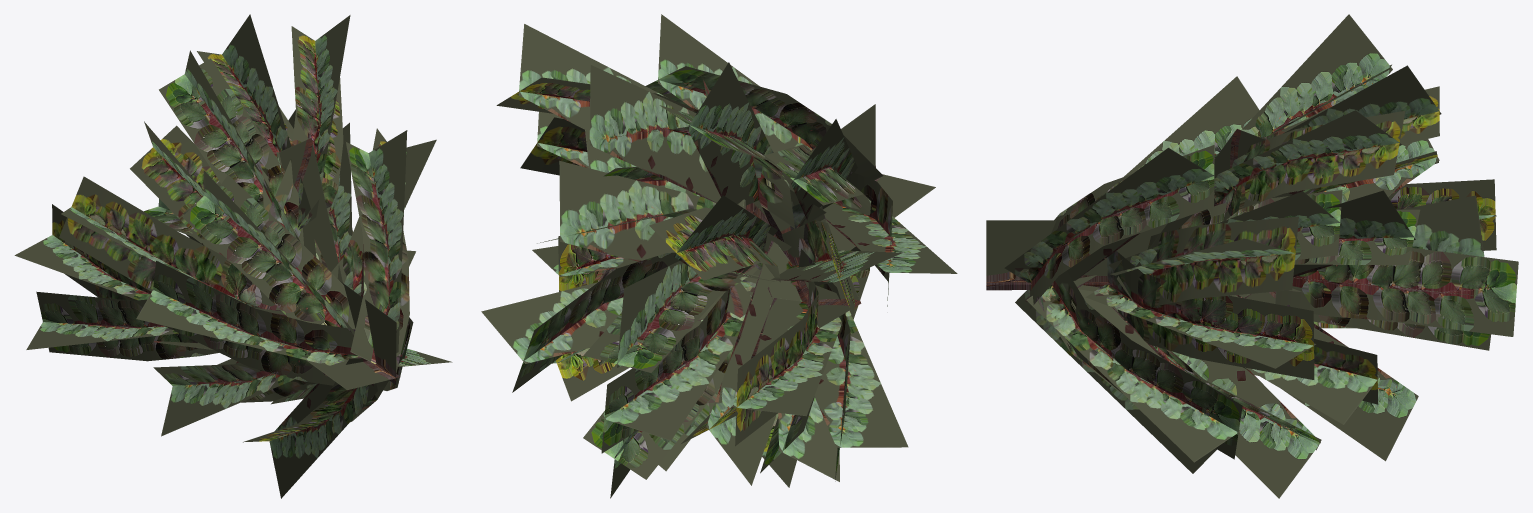
Rendered from Bush2.fbx.
3 renders of one model, left to right at view 1: azimuth 30°, elevation 25°; view 2: azimuth 150°, elevation 25°; view 3: azimuth 270°, elevation 25°, orthographic. The views are drawn at different scales.
Visible parts, largest first — view 1: Bush2; view 2: Bush2; view 3: Bush2.
Part boxes in pixels (box(x1,y1,x2,y2)): Bush2: box(14, 14, 452, 498); Bush2: box(481, 14, 957, 498); Bush2: box(986, 14, 1518, 498).
Size of the model in its own units: 26.36 by 28.57 by 30.72.
